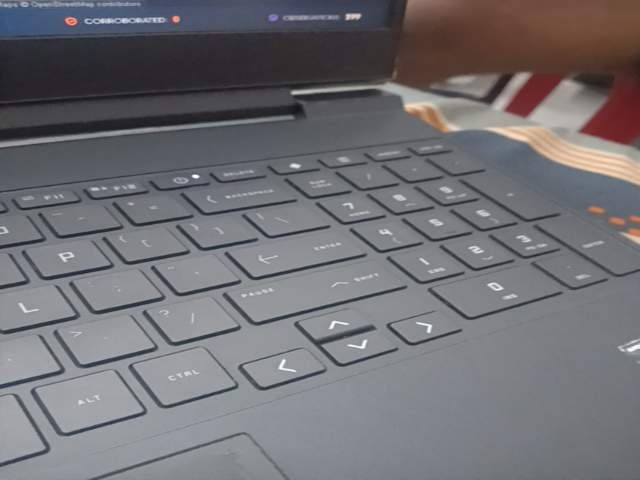pothole: (108, 403, 322, 480), (536, 403, 640, 480)
